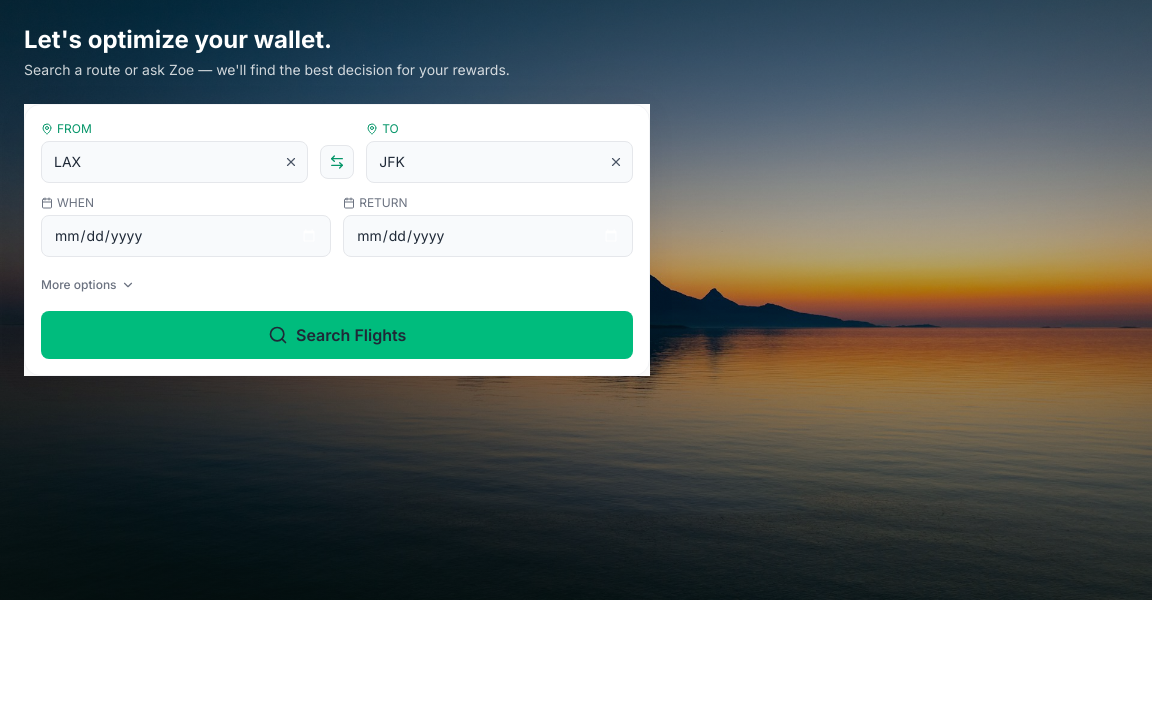
Test: Swap origin/destination button › is idempotent over two clicks (A,B -> B,A -> A,B)
The width and height of the screenshot is (1152, 720).
Click the button named "Swap origin and destination" at x=337, y=162, box [320,145,354,179]
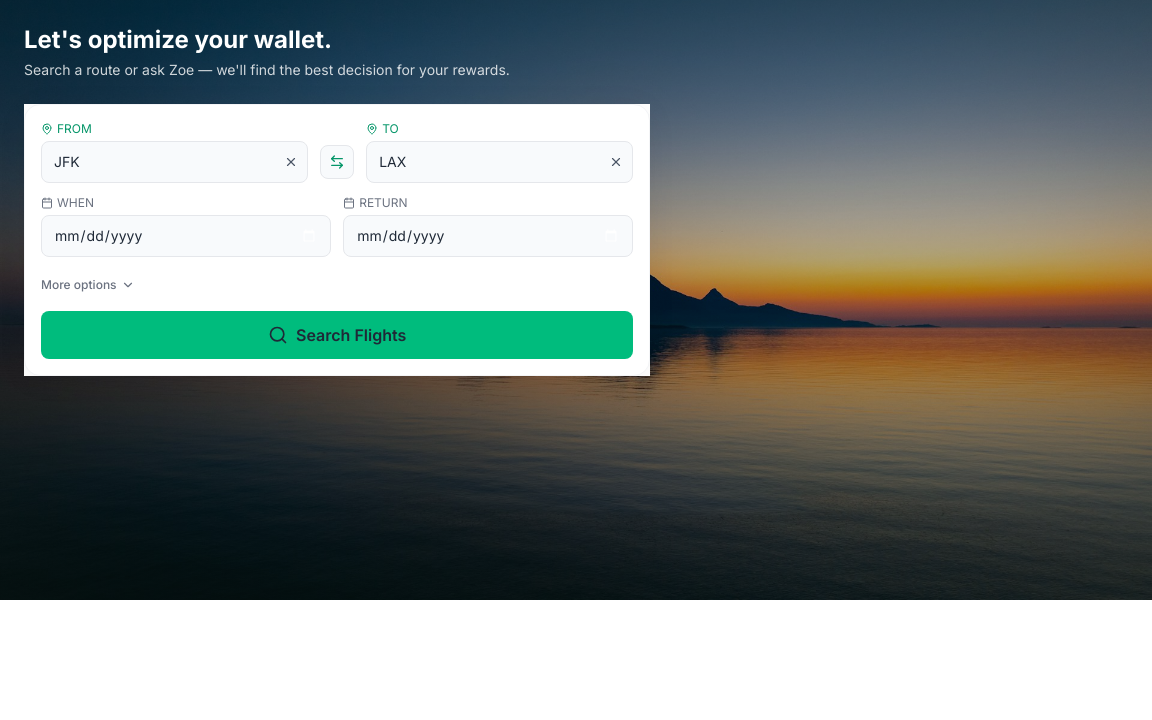
Click the button named "Swap origin and destination" at x=337, y=162, box [320,145,354,179]
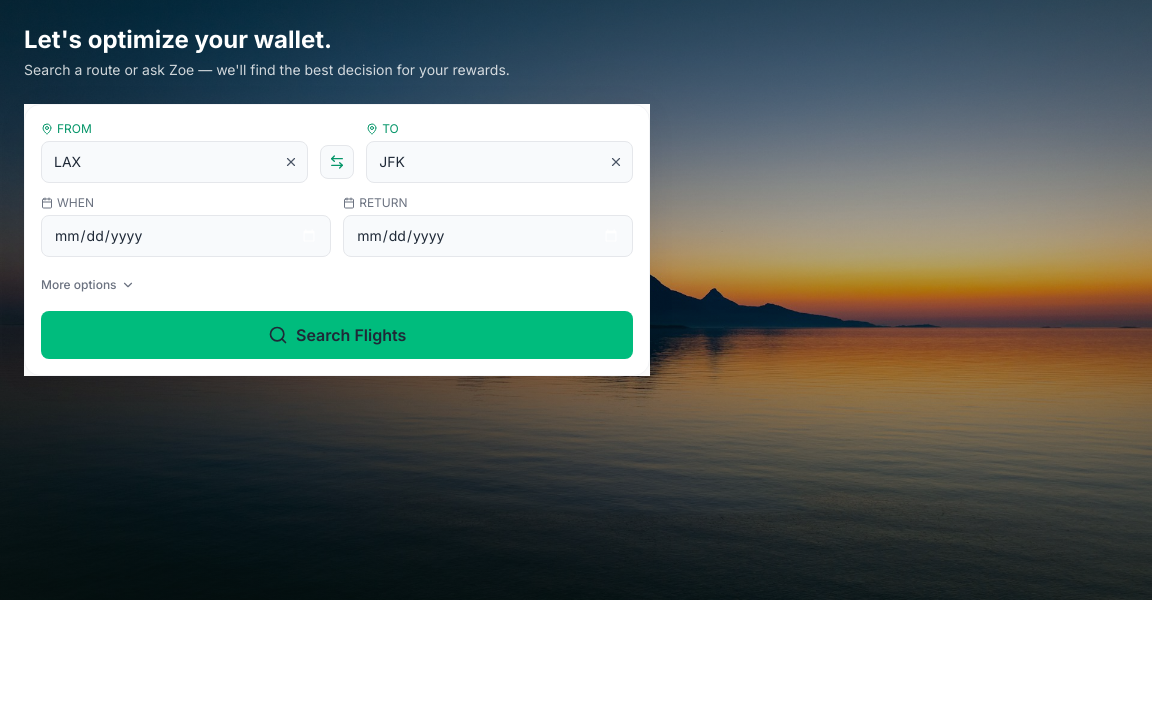
Now the field below "FROM" holds "LAX", box [41,141,308,183]
Now the field below "TO" holds "JFK", box [366,141,633,183]
